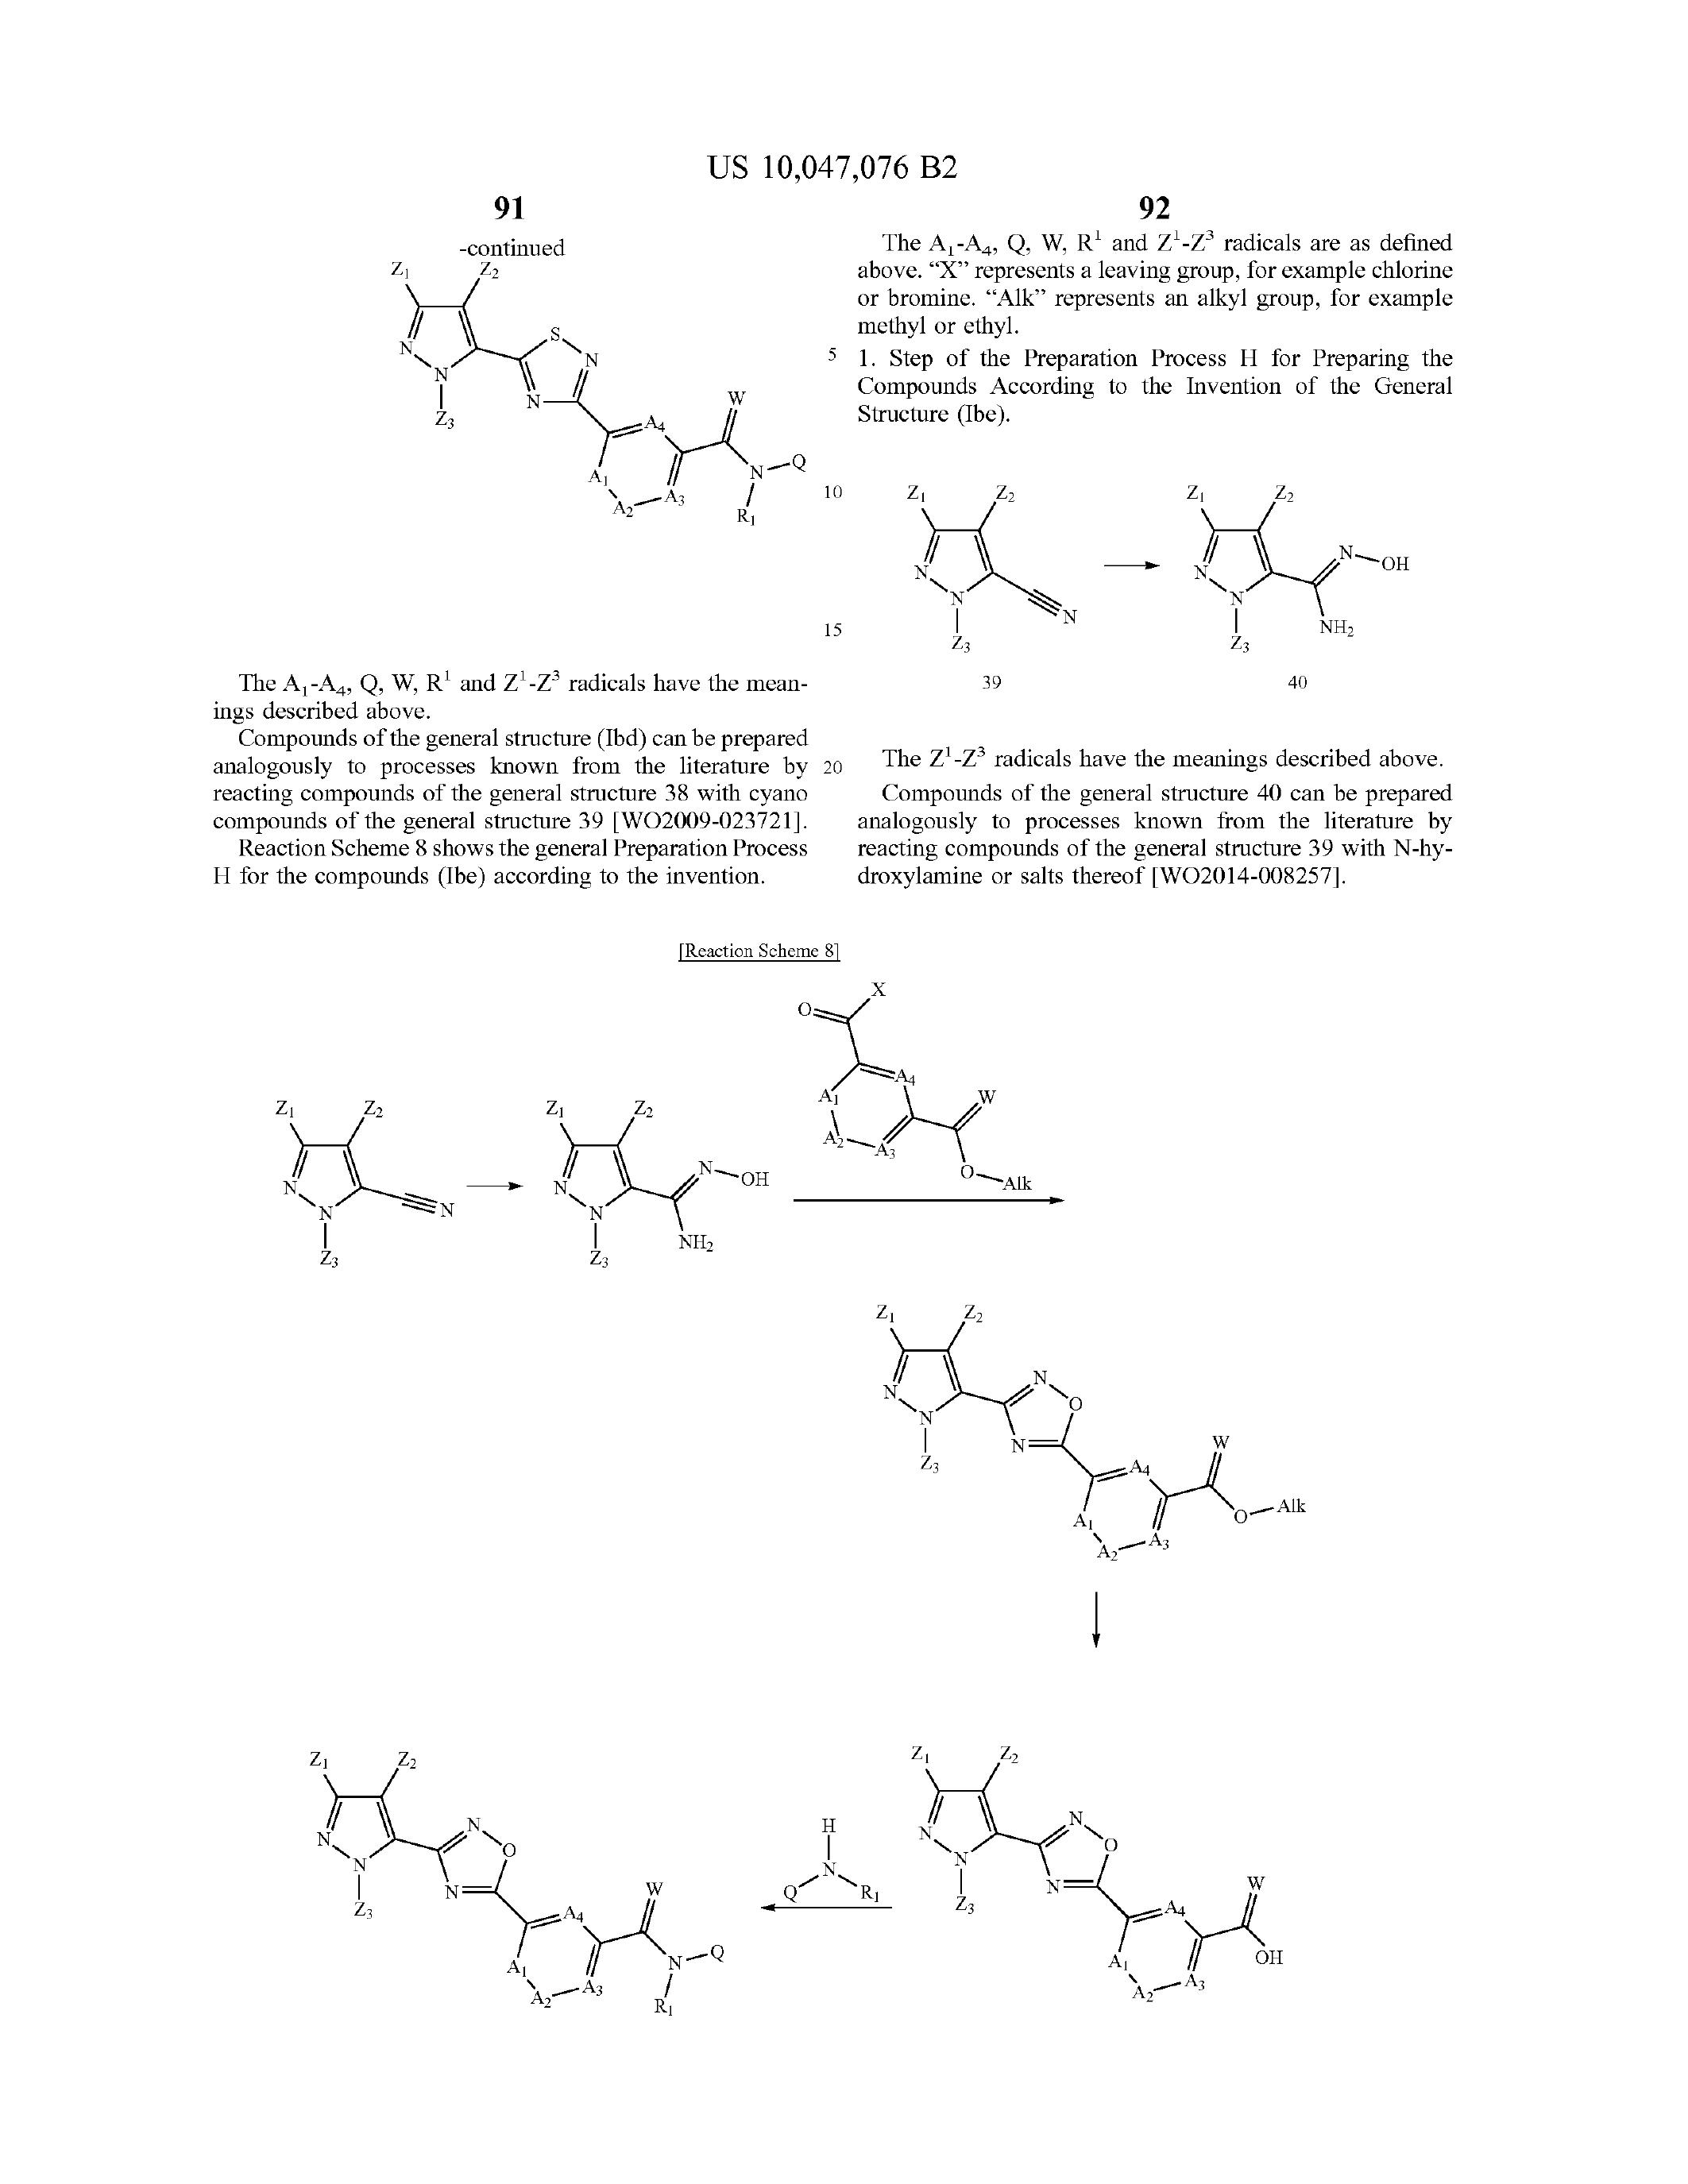intermediates: (759, 1257, 1379, 1560)
